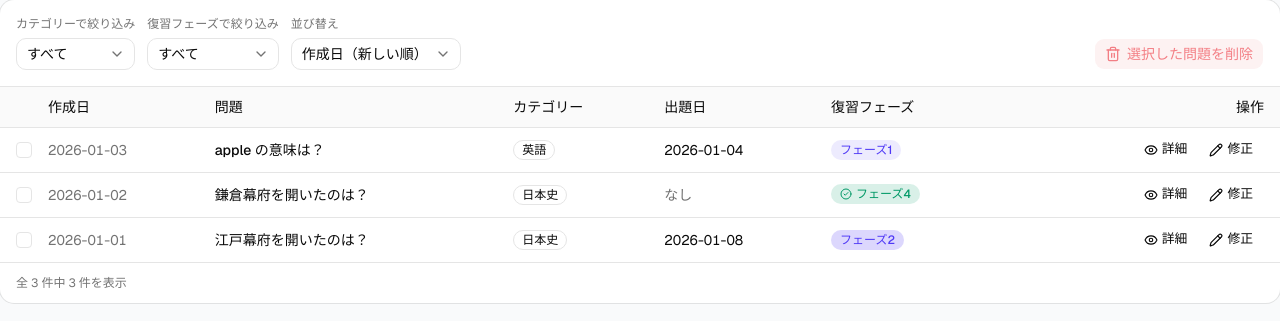
Test: QuestionList 絞り込み › 条件に一致する問題がない場合はメッセージを表示する
This screenshot has width=1280, height=321.
Select "英語" in the dropdown labelled "カテゴリーで絞り込み" at [76, 54], box [16, 38, 135, 70]
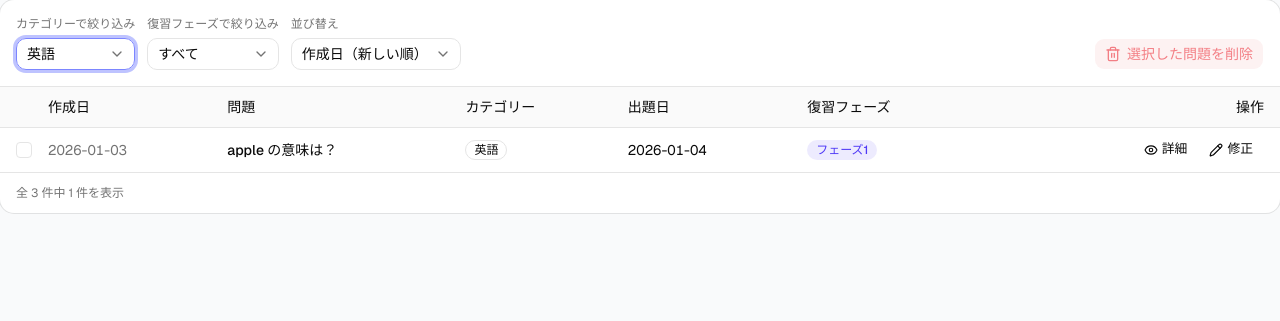
Select "フェーズ3" in the dropdown labelled "復習フェーズで絞り込み" at [213, 54], box [147, 38, 279, 70]
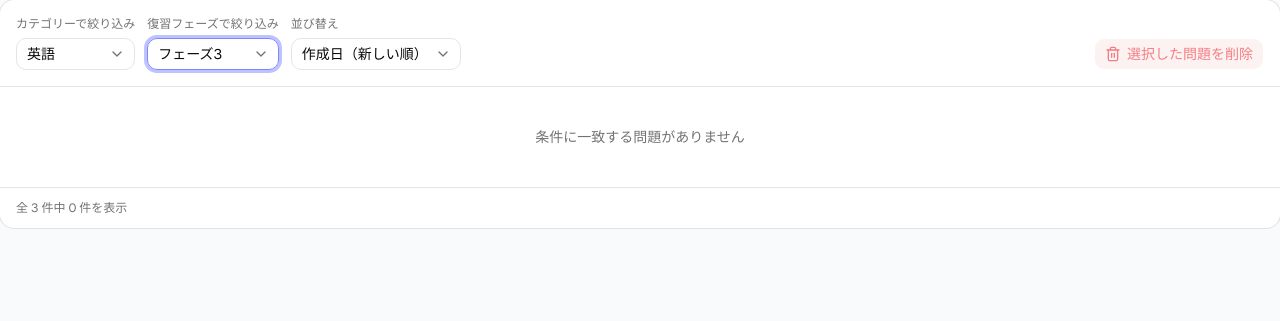
expect the text "条件に一致する問題がありません" is shown: met, box [535, 128, 745, 146]
